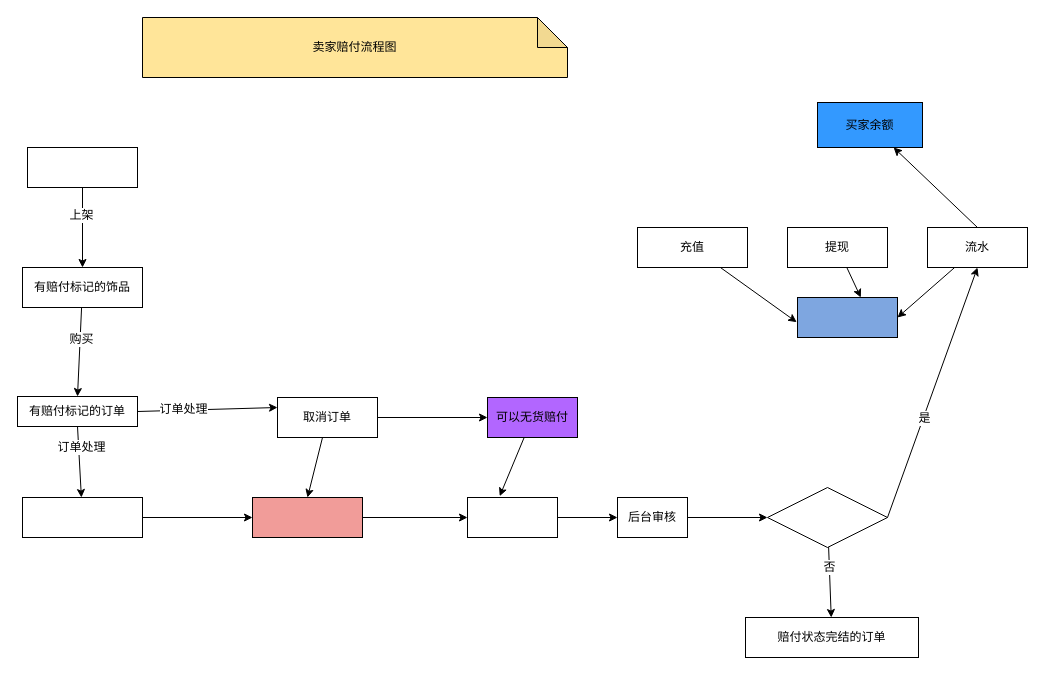
This 1045x675 diagram has some shape labels left out. Each missing label, with the box of its shape:
买家申请: (466, 496, 558, 538)
卖家保证金: (796, 296, 898, 338)
卖家饰品: (26, 146, 138, 188)
可以超时赔付: (252, 496, 362, 538)
完成订单: (22, 496, 142, 538)
是否通过: (766, 486, 888, 548)
